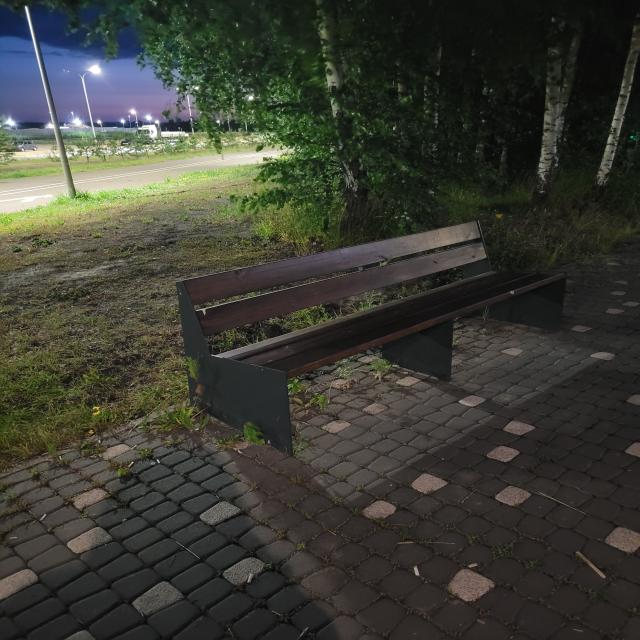Bench: (177, 220, 567, 455)
